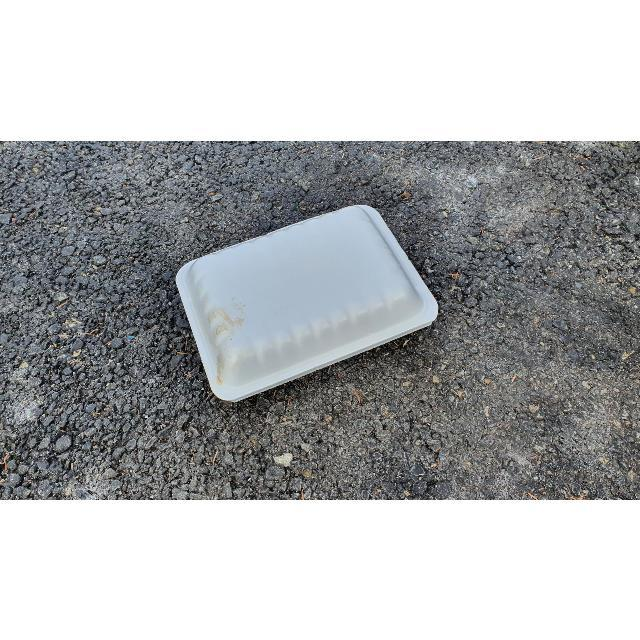Plastico descartable: (174, 205, 438, 404)
